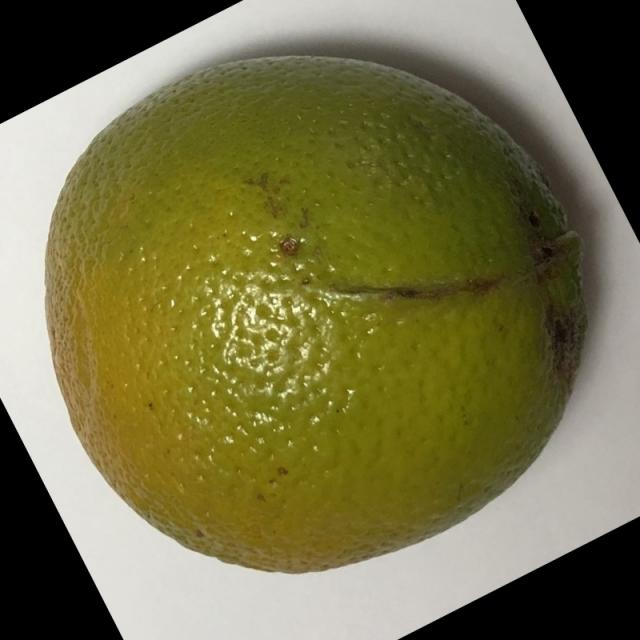canker: (42, 38, 600, 576)
